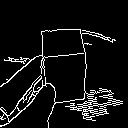cube: (33, 22, 94, 108)
